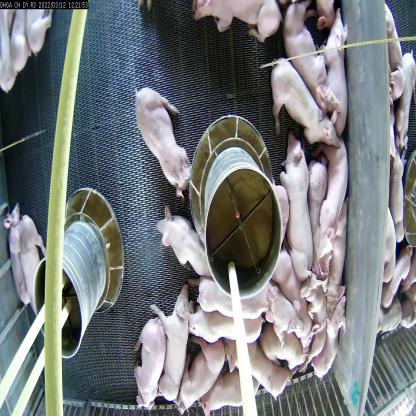Pig: (132, 76, 186, 200), (159, 189, 214, 293), (268, 62, 336, 144), (159, 282, 197, 415), (202, 271, 274, 334), (192, 302, 260, 366), (284, 147, 317, 274), (178, 333, 222, 412), (320, 18, 348, 137), (134, 313, 166, 413), (4, 199, 30, 322), (246, 341, 297, 403), (293, 14, 324, 109), (321, 144, 351, 237), (301, 284, 333, 365), (205, 368, 250, 415), (334, 214, 354, 315), (22, 209, 42, 304)
